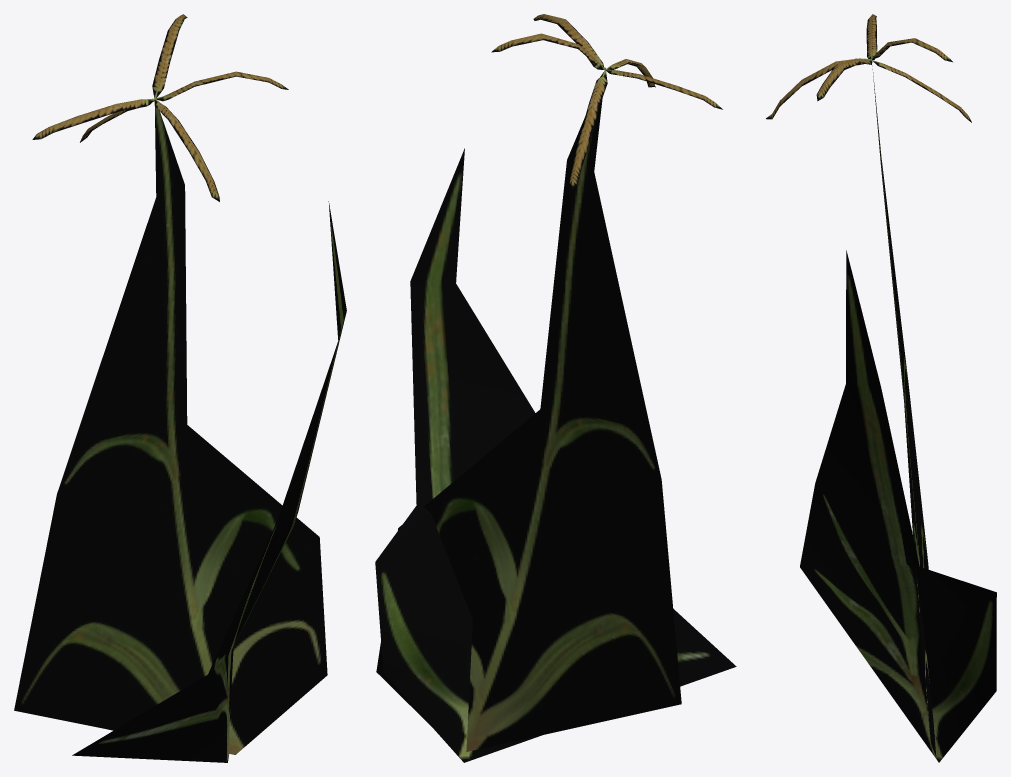
File: grass_a_near.gltf
3 renders of one model, left to right at view 1: azimuth 30°, elevation 25°; view 2: azimuth 150°, elevation 25°; view 3: azimuth 270°, elevation 25°, orthographic. The views are drawn at different scales.
Visible parts, largest first — view 1: grass_a_near; view 2: grass_a_near; view 3: grass_a_near.
Part boxes in pixels (box(x1,y1,x2,y2)): grass_a_near: box(14, 14, 346, 762); grass_a_near: box(375, 14, 736, 762); grass_a_near: box(766, 14, 996, 762).
Bounding box in the file's own units: 0.1439 × 0.32 × 0.0967.
1 material, 1 textured.
